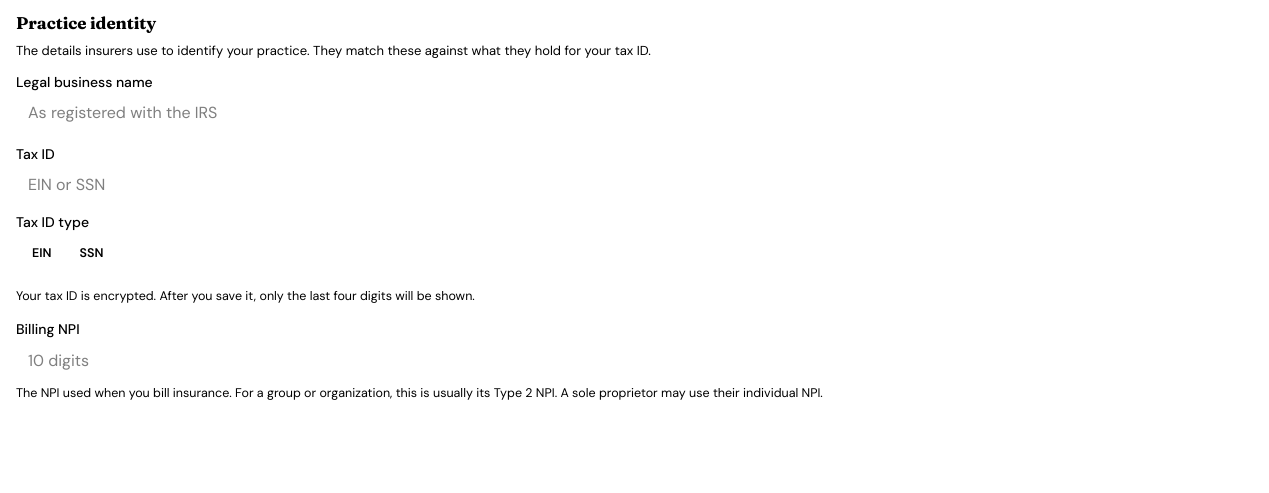
the billing NPI › refuses one that is not ten digits
Type "12345" into the field labelled "Billing NPI".
click(634, 360); type("12345")  # box 16,342 -> 1252,378
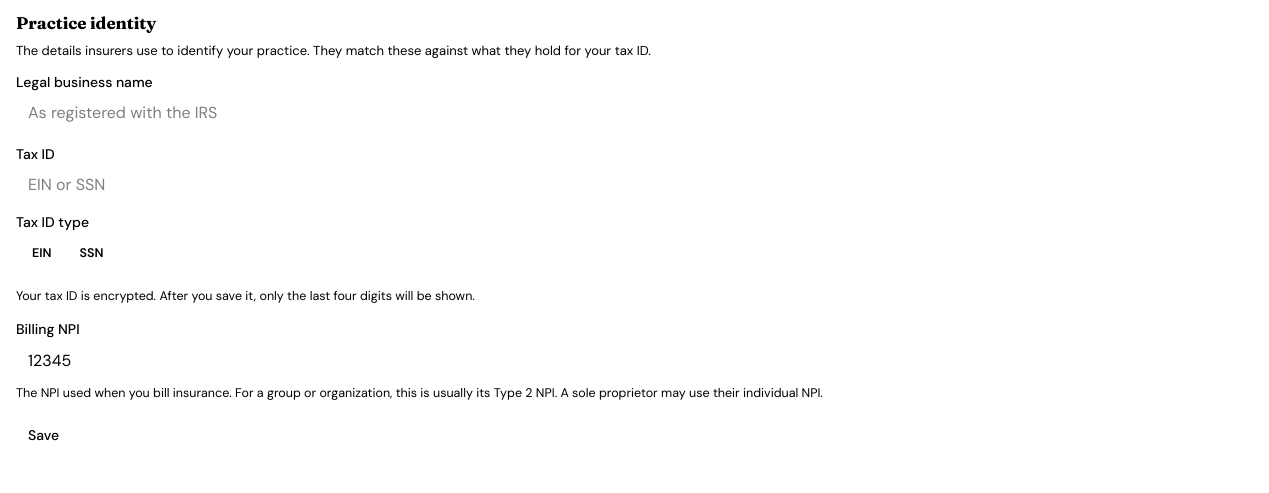
Click the button "Save".
click(44, 435)  # box 16,419 -> 71,451
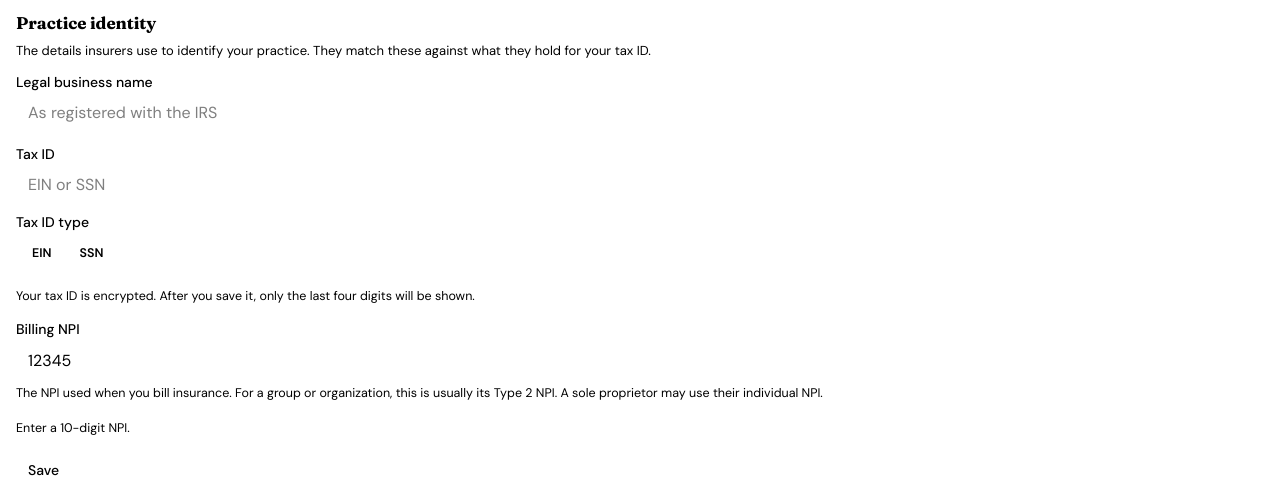
Result: the message shows "10-digit" at 16,420 -> 130,436
